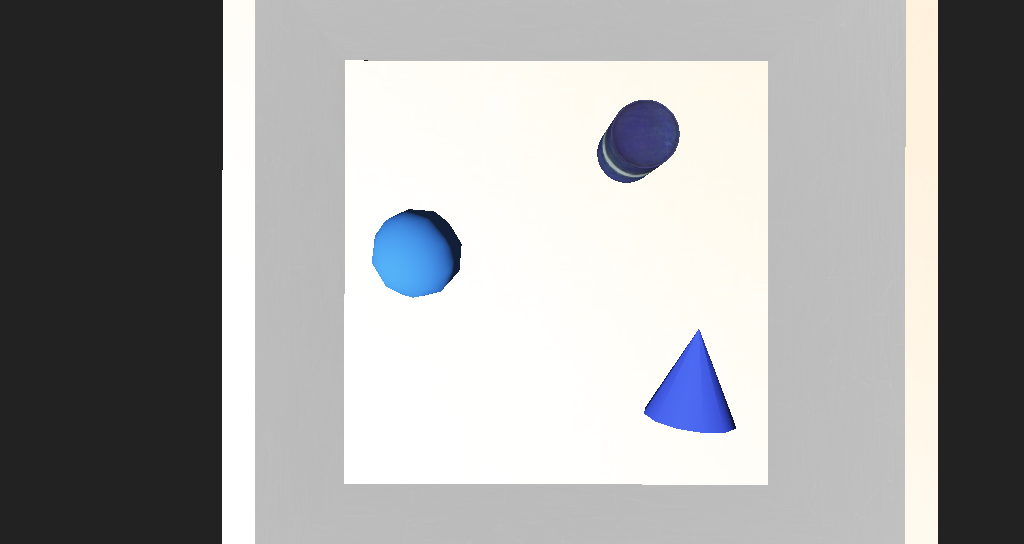cone: (532, 186, 586, 224)
cylinder: (569, 291, 643, 348)
sphere: (381, 234, 441, 282)
